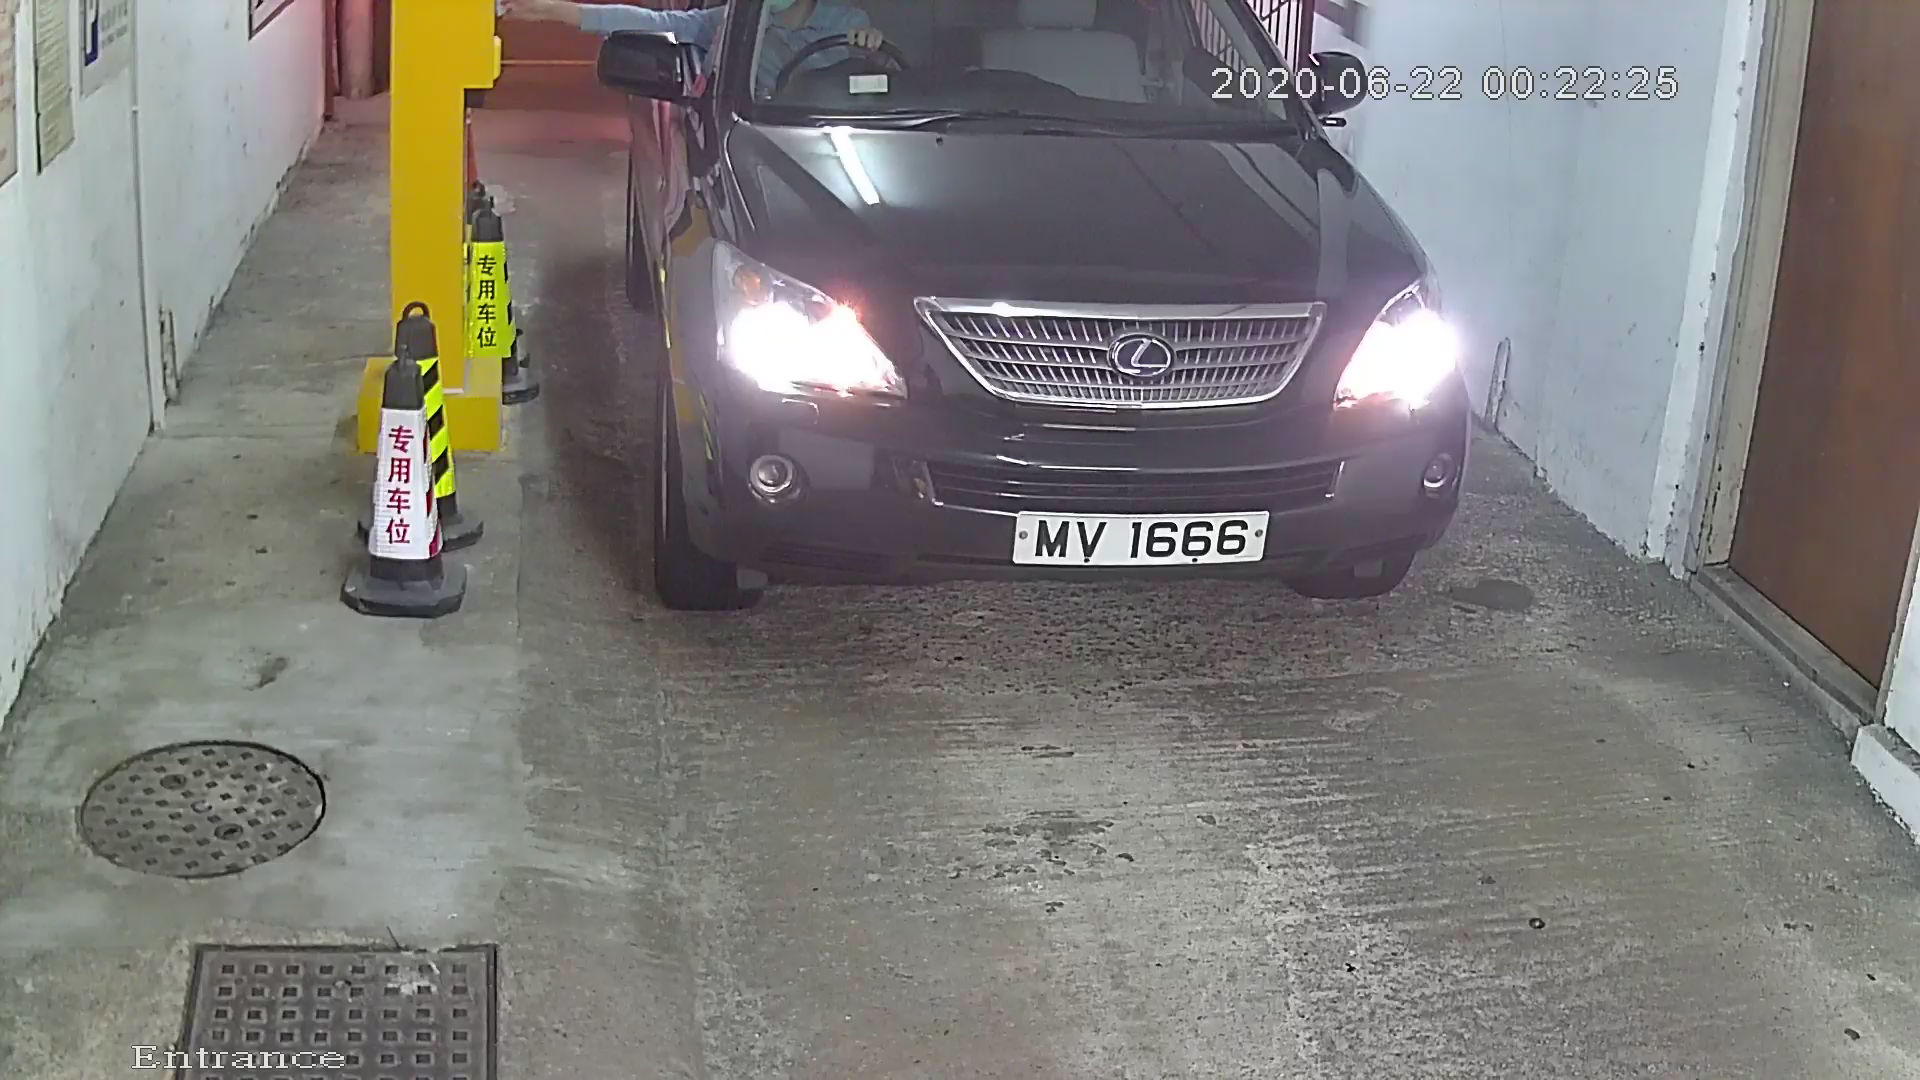privatecar: (622, 1, 1526, 665)
